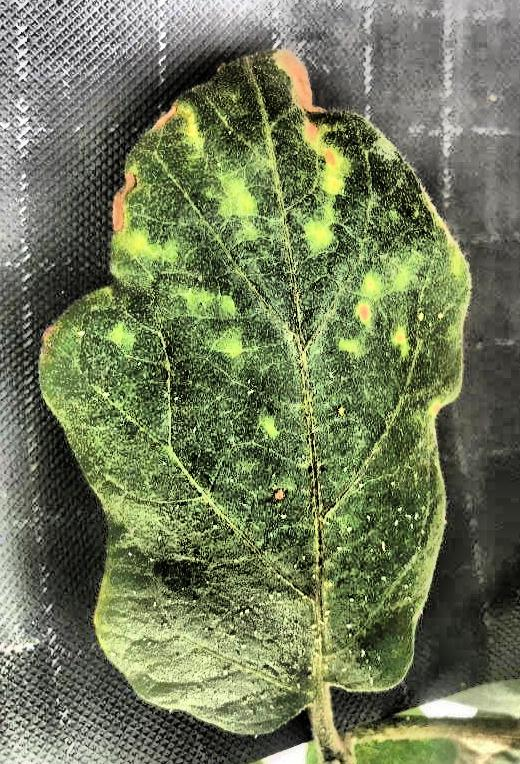Non-critical Stress: (1, 0, 520, 764)
